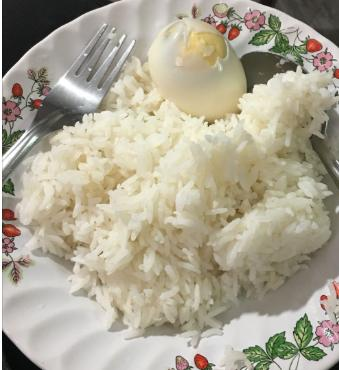makanan_berpati: (76, 124, 285, 282)
telur: (170, 36, 229, 102)
